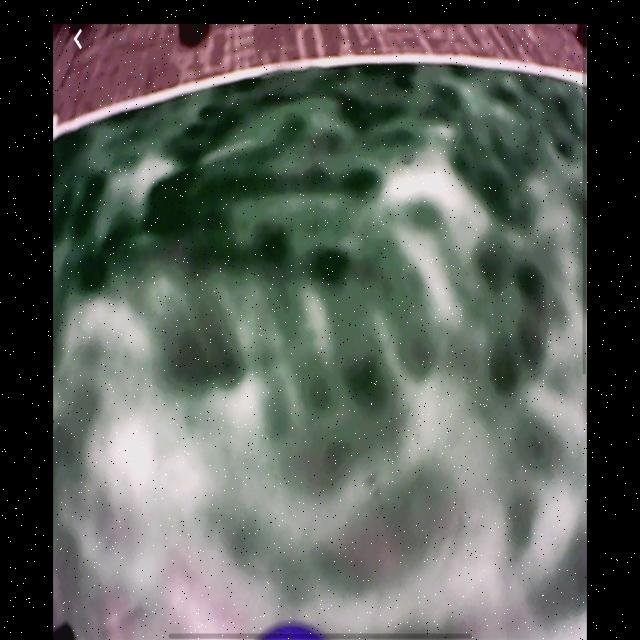ball: (257, 619, 329, 640)
